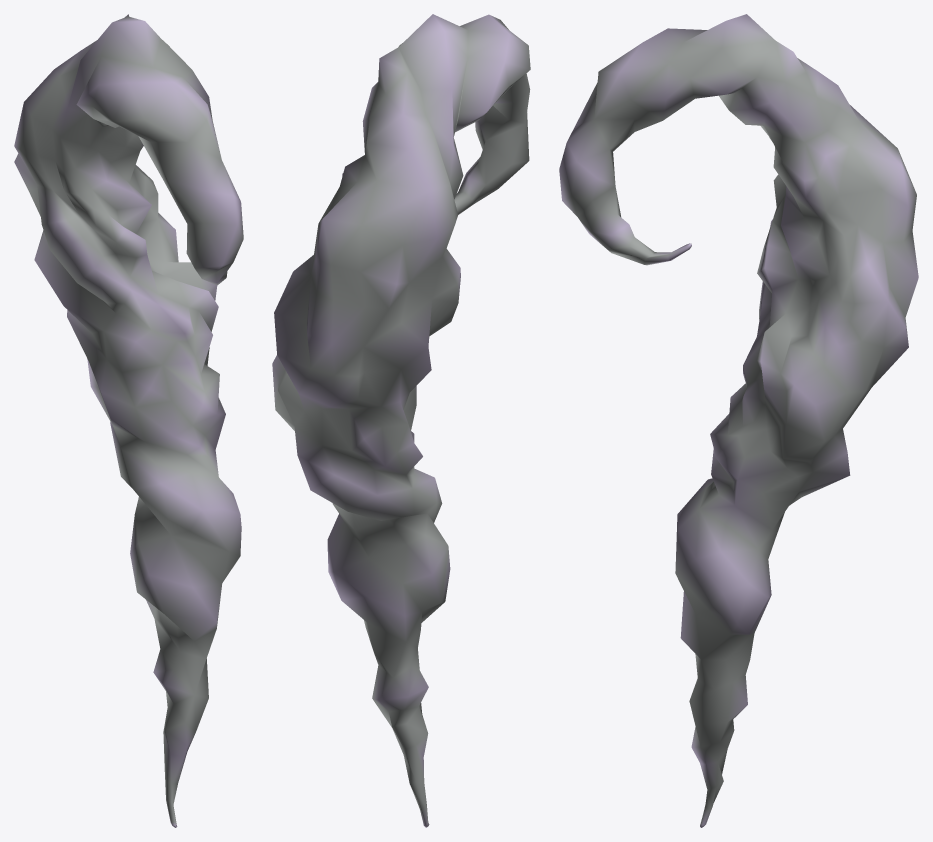
3 renders of one model, left to right at view 1: azimuth 30°, elevation 25°; view 2: azimuth 150°, elevation 25°; view 3: azimuth 270°, elevation 25°, orthographic. The views are drawn at different scales.
Visible parts, largest first — view 1: G:\FFXIV-MapTools\exports\a2f2\bg\ex1\03_abr_a2\fld\a2f2\bgp; view 2: G:\FFXIV-MapTools\exports\a2f2\bg\ex1\03_abr_a2\fld\a2f2\bgp; view 3: G:\FFXIV-MapTools\exports\a2f2\bg\ex1\03_abr_a2\fld\a2f2\bgp.
Part boxes in pixels (<box>): G:\FFXIV-MapTools\exports\a2f2\bg\ex1\03_abr_a2\fld\a2f2\bgp: <box>14,14,243,827</box>; G:\FFXIV-MapTools\exports\a2f2\bg\ex1\03_abr_a2\fld\a2f2\bgp: <box>272,14,530,827</box>; G:\FFXIV-MapTools\exports\a2f2\bg\ex1\03_abr_a2\fld\a2f2\bgp: <box>559,14,918,827</box>.
Size of the model in its own units: 3.91 by 16.3 by 6.66.
